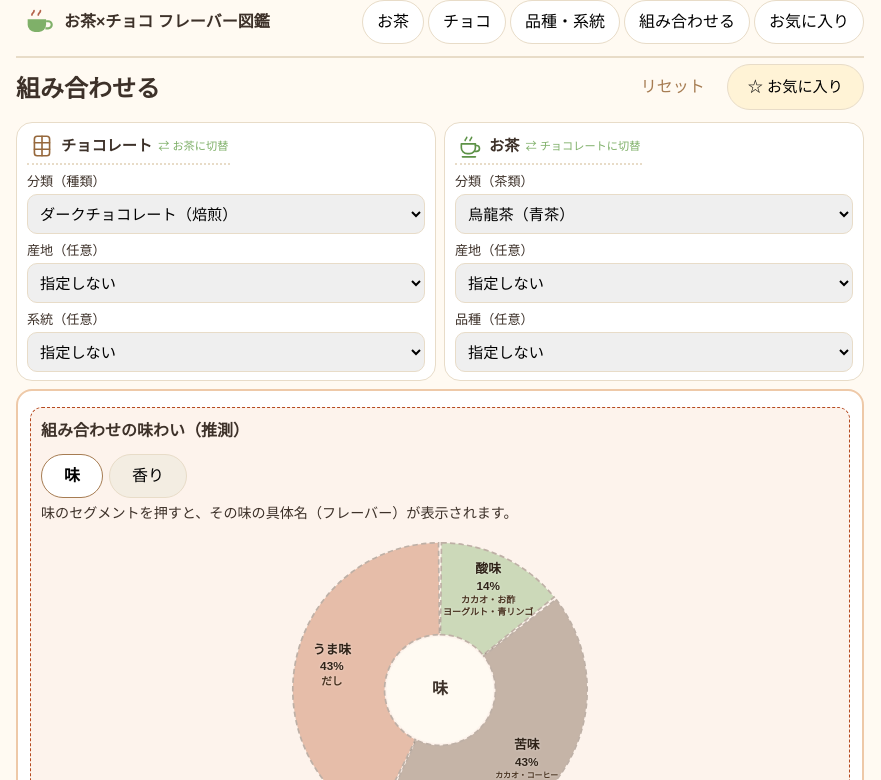
品種・系統データベースの画面連携 › 組み合わせ画面で品種を指定すると階層（実測）が表示される
Select "青心烏龍" in the dropdown named "お茶の品種（任意）": [654, 352] box [455, 332, 853, 372]
(page scrolled)
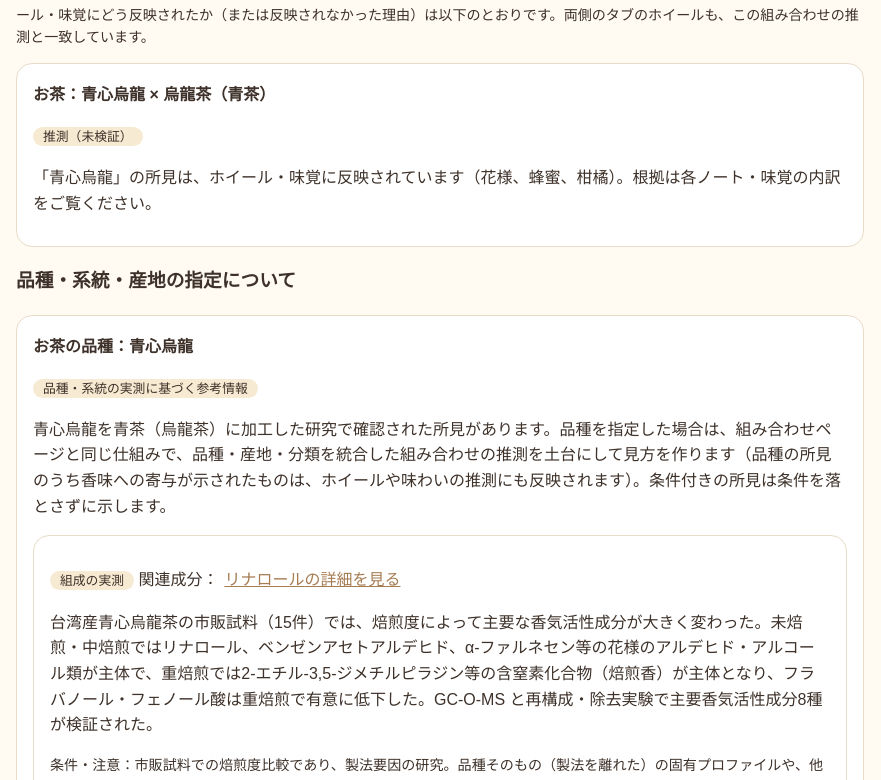
Expected: the text "品種・系統の実測に基づく参考情報" is shown, [33, 379, 258, 398]
